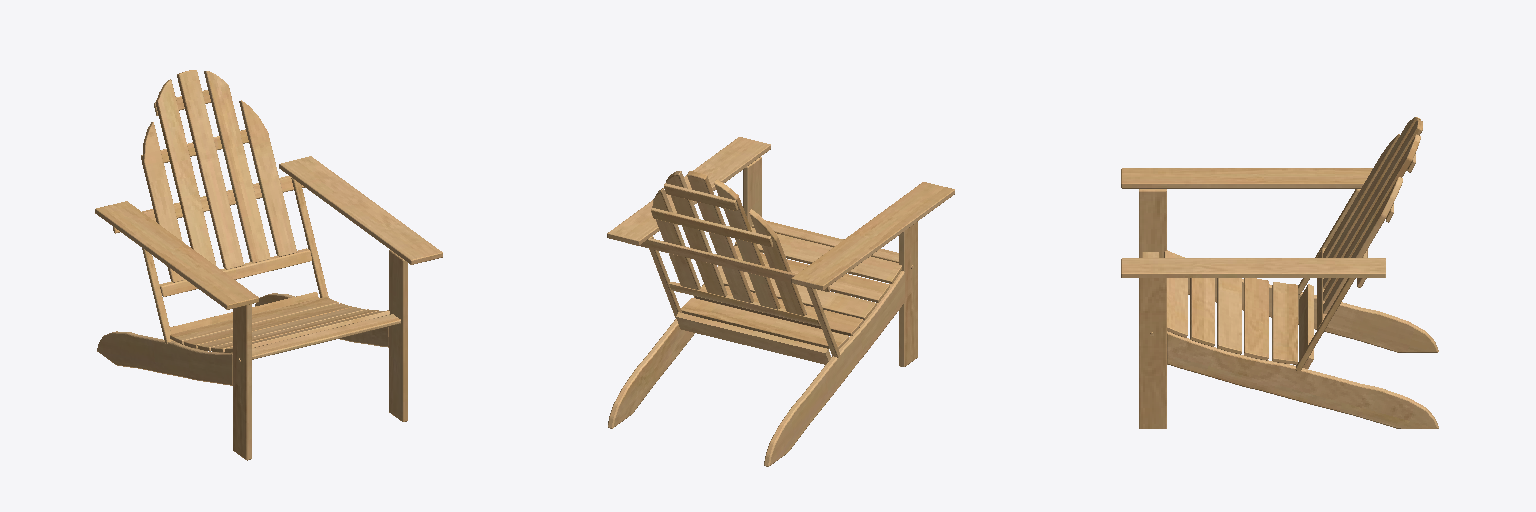
3 views of the same model, side by side, from view 1: azimuth 30°, elevation 25°; view 2: azimuth 150°, elevation 25°; view 3: azimuth 270°, elevation 25° (orthographic).
Visible parts, largest first — view 1: Cube.002; view 2: Cube.002; view 3: Cube.002.
Part boxes in pixels (bbox=[...]): Cube.002: bbox=[95, 70, 442, 460]; Cube.002: bbox=[607, 137, 954, 466]; Cube.002: bbox=[1121, 117, 1438, 428].
Bounding box in the file's own units: 3.3 × 3.91 × 4.19.
Materials: 2 (1 with a texture image).